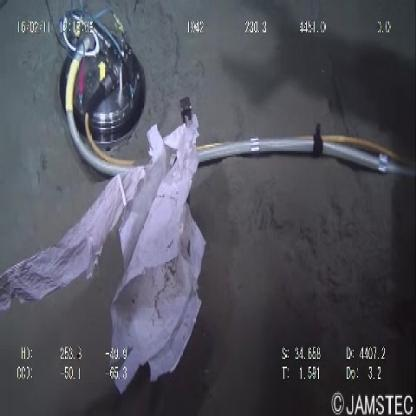Rov: (55, 8, 150, 154)
Rác: (1, 109, 199, 387)
